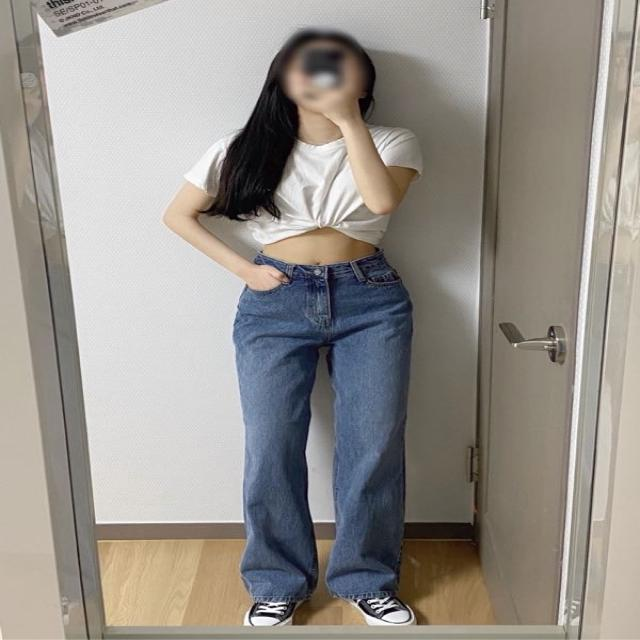denimpants: (235, 254, 419, 606)
shortsleeve: (181, 125, 422, 246)
